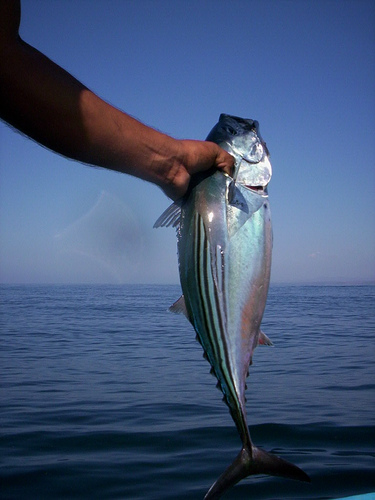fish: (173, 110, 335, 496)
